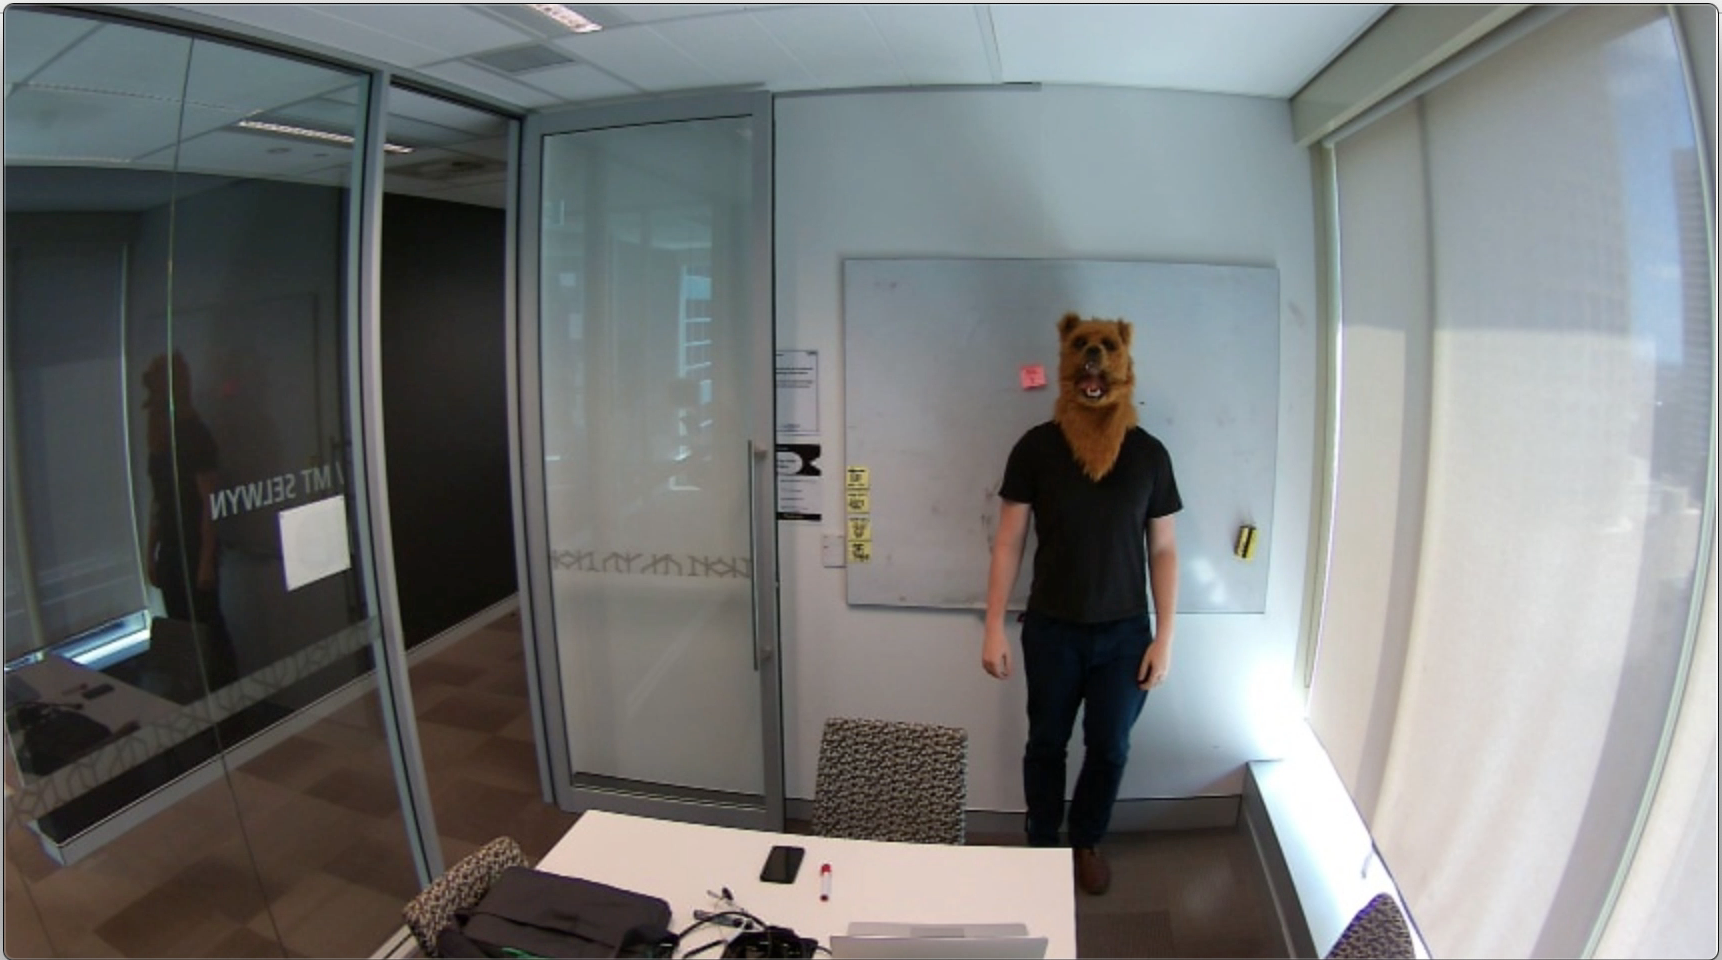Bear: (1054, 307, 1141, 424)
